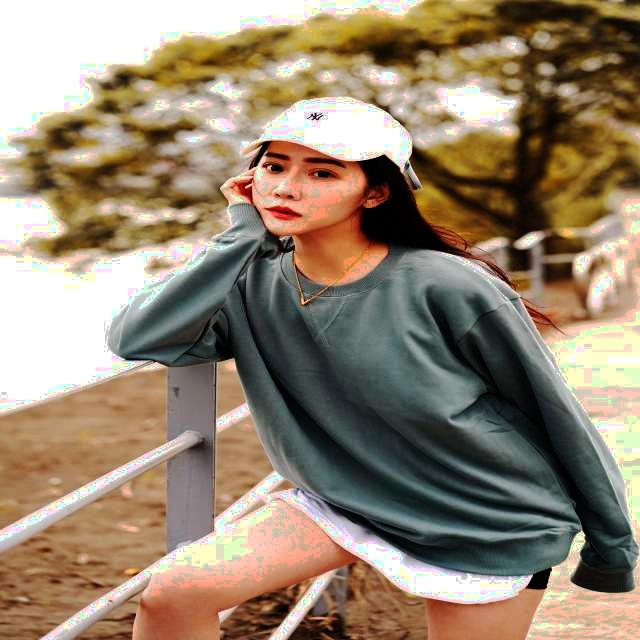TOPI: (239, 96, 412, 169)
